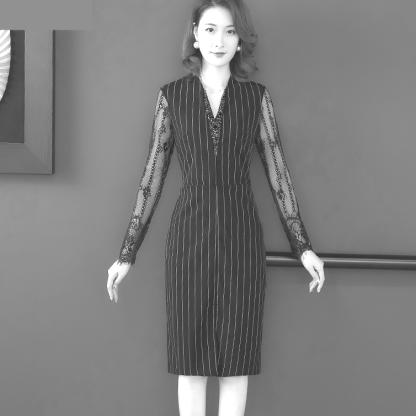dress: (117, 67, 317, 386)
